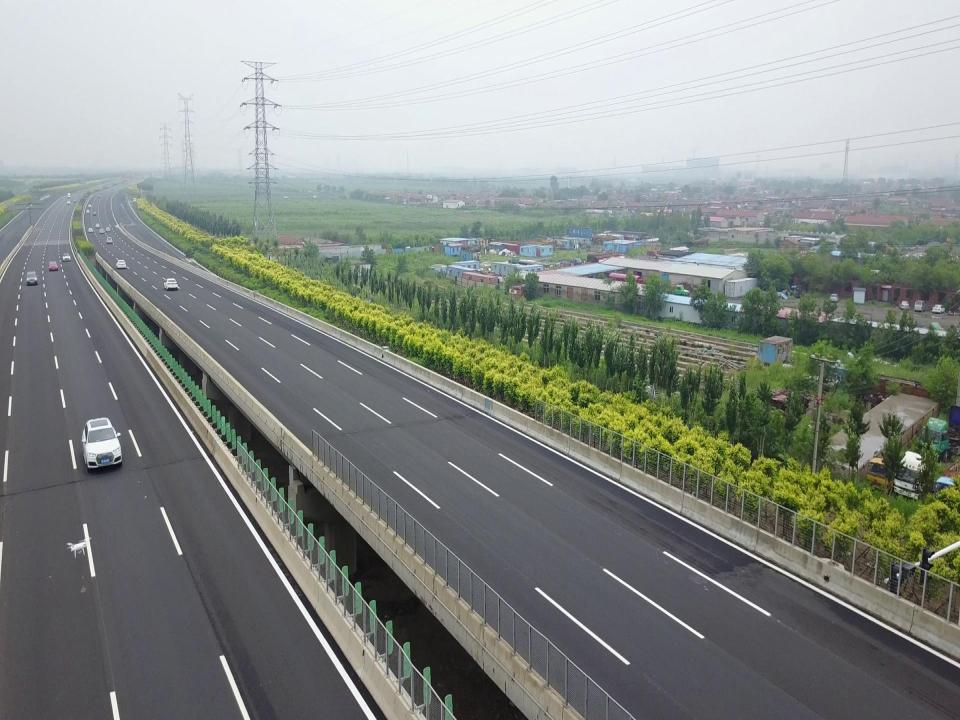car: (81, 416, 124, 471), (163, 277, 179, 291), (25, 270, 39, 285), (931, 304, 946, 313), (48, 261, 60, 271), (115, 258, 127, 268), (899, 300, 911, 310), (829, 293, 839, 303), (62, 253, 71, 261), (106, 237, 114, 244), (88, 227, 94, 233), (105, 226, 111, 232), (99, 228, 105, 233), (95, 222, 99, 228), (93, 211, 97, 216), (88, 203, 92, 208), (86, 209, 90, 213), (66, 200, 70, 204), (74, 199, 76, 203)
truck: (917, 404, 960, 462), (892, 450, 926, 502), (865, 454, 898, 493), (933, 471, 960, 507), (658, 284, 690, 299)
van: (913, 300, 927, 311), (67, 192, 71, 199)
